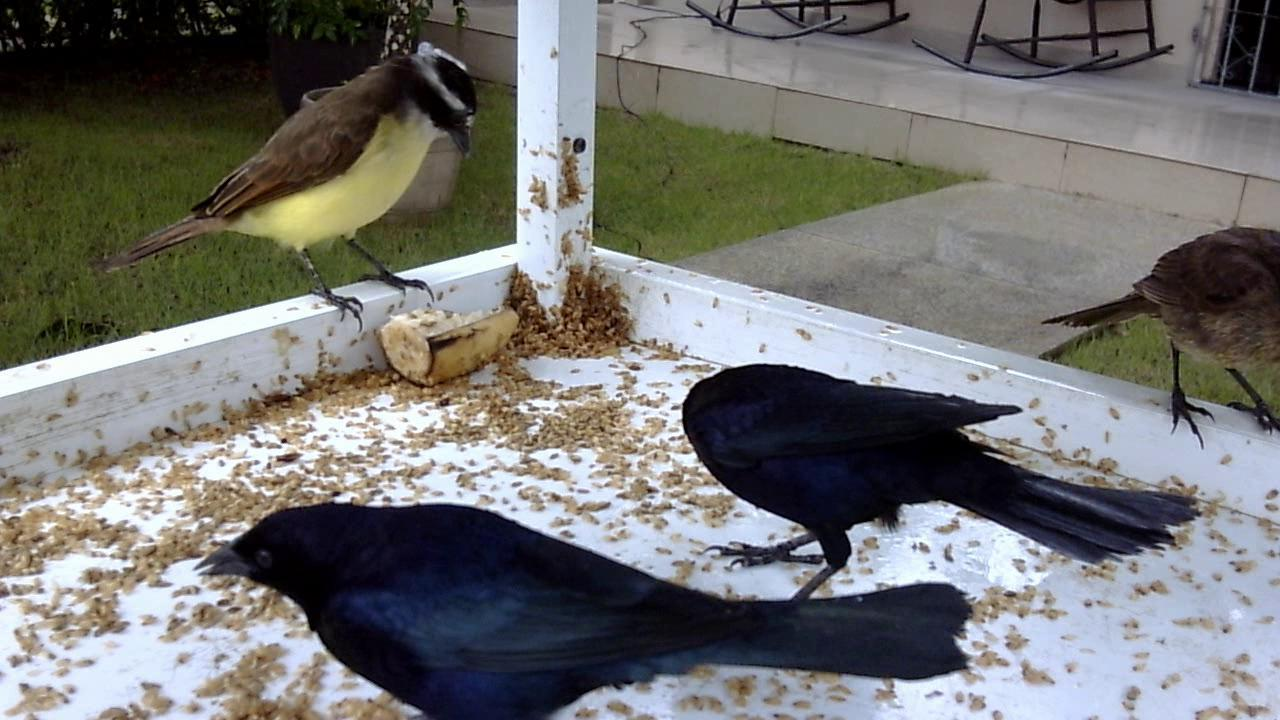bem_te_vi: (88, 44, 480, 345)
chupim: (171, 472, 969, 720), (666, 337, 1202, 622), (1027, 220, 1275, 463)
